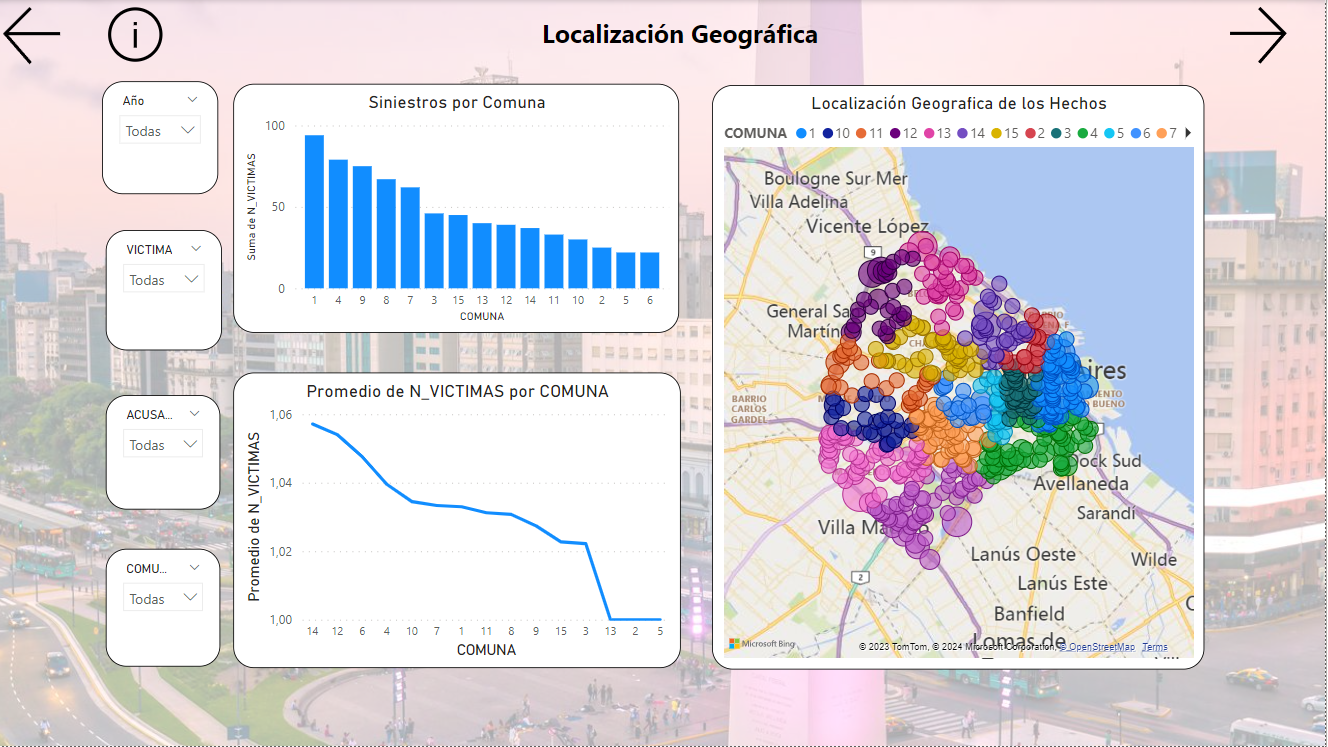

This screenshot's page, from the dashboard's own definition file:
{"tool":"powerbi","page":{"name":"Localización","canvas":[1280,720],"ordinal":3},"visuals":[{"type":"map","title":"Localización Geografica de los Hechos","fields":{"Y":["Avg(homicidios_proc.LATITUD)"],"X":["Avg(homicidios_proc.LONGITUD)"],"Size":["Sum(homicidios_proc.N_VICTIMAS)"],"Series":["homicidios_proc.COMUNA"]},"box":[689.3,81.4,474.5,562.9],"z":1000},{"type":"columnChart","title":"Siniestros por Comuna","fields":{"Y":["Sum(homicidios_proc.N_VICTIMAS)"],"Category":["homicidios_proc.COMUNA"]},"box":[227.8,80.9,429.9,239.9],"z":3000},{"type":"textbox","box":[392.5,11,531,42.5],"z":5000},{"type":"slicer","fields":{"Values":["homicidios_proc.FECHA.Variación.Jerarquía de fechas.Año"]},"box":[101.5,78.6,111.9,109.2],"z":7000},{"type":"slicer","fields":{"Values":["homicidios_proc.VICTIMA"]},"box":[104.2,221.5,111.9,115.9],"z":10000},{"type":"slicer","fields":{"Values":["homicidios_proc.COMUNA"]},"box":[104.2,528.7,110.5,113.2],"z":11000},{"type":"slicer","fields":{"Values":["homicidios_proc.ACUSADO"]},"box":[104.2,380.5,110.5,110.5],"z":12000},{"type":"actionButton","box":[0,0,100,68.6],"z":16000},{"type":"actionButton","box":[1180.9,0,99.4,68.1],"z":17000},{"type":"lineChart","fields":{"Category":["homicidios_proc.COMUNA"],"Y":["Avg(homicidios_proc.N_VICTIMAS)"]},"box":[227.4,359.4,431,285],"z":17001},{"type":"actionButton","box":[99.9,0,74.9,66.6],"z":17002}]}

Visuals, with their boxes in screenshot pixels (x1, y1, x2, y2), scaled from the page's 1280x720 canvas onto the 1328x747 screenshot:
"Localización Geografica de los Hechos" map: left=715, top=84, right=1207, bottom=668
"Siniestros por Comuna" columnChart: left=236, top=84, right=682, bottom=333
textbox: left=407, top=11, right=958, bottom=56
slicer - homicidios_proc.FECHA.Variación.Jerarquía de fechas.Año: left=105, top=82, right=221, bottom=195
slicer - homicidios_proc.VICTIMA: left=108, top=230, right=224, bottom=350
slicer - homicidios_proc.COMUNA: left=108, top=549, right=223, bottom=666
slicer - homicidios_proc.ACUSADO: left=108, top=395, right=223, bottom=509
actionButton: left=0, top=0, right=104, bottom=71
actionButton: left=1225, top=0, right=1327, bottom=71
lineChart - homicidios_proc.COMUNA x Avg(homicidios_proc.N_VICTIMAS): left=236, top=373, right=683, bottom=669
actionButton: left=104, top=0, right=181, bottom=69
